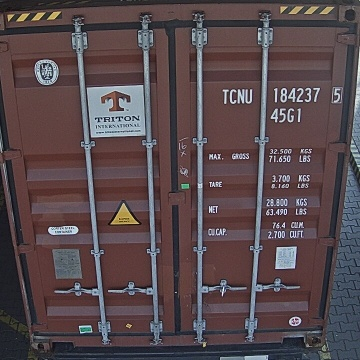serial_id: (222, 87, 342, 104)
